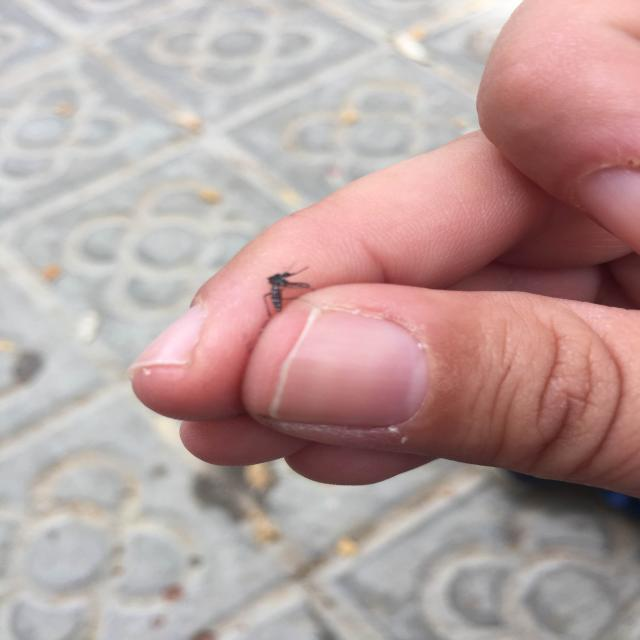albopictus: (253, 259, 315, 317)
